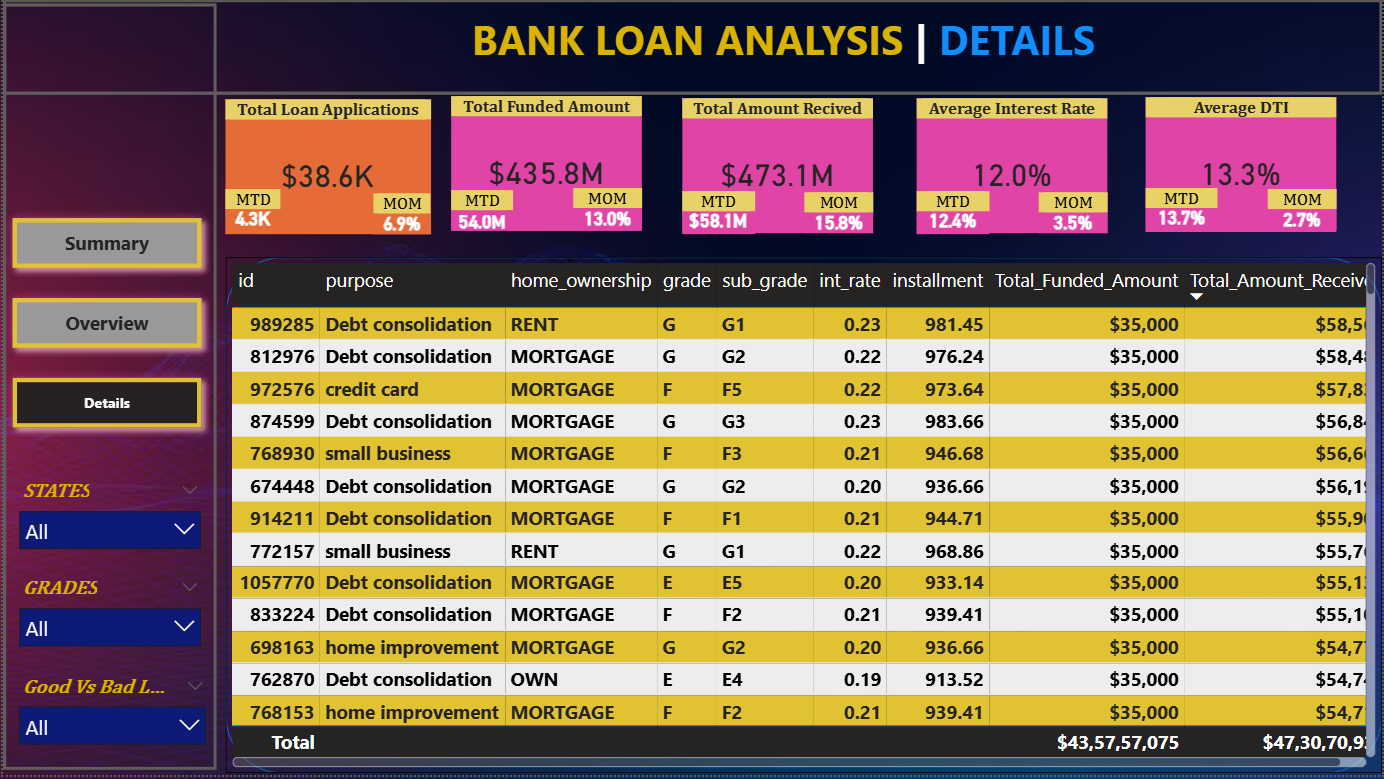

The page's visual inventory and layout, read from the dashboard file:
{"tool":"powerbi","page":{"name":"Details","canvas":[1280,720],"ordinal":2},"visuals":[{"type":"actionButton","box":[0,0,1280,88.9],"z":0},{"type":"actionButton","box":[0,4,198.4,711.4],"z":1000},{"type":"textbox","box":[389,7,671,60],"z":2000},{"type":"card","title":"Total Loan Applications","fields":{"Values":["Good_Loan_%.Total_Loan_Applications"]},"box":[206.4,93.2,190.4,125.2],"z":3000},{"type":"card","title":"MTD","fields":{"Values":["Good_Loan_%.MTD_Loan_App"]},"box":[206.4,176.3,51.1,42.1],"z":4000},{"type":"card","title":"MOM","fields":{"Values":["Good_Loan_%.MOM_Loan_Applications"]},"box":[343.7,180.4,53.1,38.1],"z":5000},{"type":"card","title":"Total Funded Amount","fields":{"Values":["Good_Loan_%.Total_Funded_Amount"]},"box":[416,90,177,125],"z":6000},{"type":"card","title":"MTD","fields":{"Values":["Good_Loan_%.MTD_Funded_Amount"]},"box":[415.8,177.4,57.1,36.1],"z":7000},{"type":"card","title":"MOM","fields":{"Values":["Good_Loan_%.MOM_Total Funded_Amount"]},"box":[529,175,64,38],"z":8000},{"type":"card","title":"Total Amount Recived","fields":{"Values":["Good_Loan_%.Total_Amount_Received"]},"box":[630,92,177,125],"z":9000},{"type":"card","title":"MTD","fields":{"Values":["Good_Loan_%.MTD_Total_Amount_Recieved"]},"box":[630.2,178.4,67.1,40.1],"z":10000},{"type":"card","title":"MOM","fields":{"Values":["Good_Loan_%.MOM_Total_Amount_Recieved"]},"box":[743,179,64,38],"z":11000},{"type":"card","title":"Average Interest Rate","fields":{"Values":["Good_Loan_%.Average_interest_rate"]},"box":[848,92,177,125],"z":12000},{"type":"card","title":"MTD","fields":{"Values":["Good_Loan_%.MTD_Average_int_rate"]},"box":[847.7,178.4,67.1,40.1],"z":13000},{"type":"card","title":"MOM","fields":{"Values":["Good_Loan_%.MOM AVG int rate"]},"box":[961,179,64,38],"z":14000},{"type":"card","title":"Average DTI","fields":{"Values":["Good_Loan_%.Avarage_DTI"]},"box":[1060,91,177,125],"z":15000},{"type":"card","title":"MTD","fields":{"Values":["Good_Loan_%.MTD _AVARAGE_DTI"]},"box":[1060,175,67,40],"z":16000},{"type":"card","title":"MOM","fields":{"Values":["Good_Loan_%.MOM AVG DTI"]},"box":[1173,176,64,38],"z":17000},{"type":"shape","box":[206.4,239.5,1073.1,478.9],"z":18000},{"type":"slicer","fields":{"Values":["financial_loan.address_state"]},"box":[5,441.9,188.4,75.1],"z":19000},{"type":"slicer","fields":{"Values":["financial_loan.grade"]},"box":[5,532.1,188.4,75.1],"z":20000},{"type":"slicer","fields":{"Values":["financial_loan.Good Vs Bad Loan"]},"box":[5,623.2,193.4,79.2],"z":21000},{"type":"tableEx","fields":{"Values":["financial_loan.id","financial_loan.purpose","financial_loan.home_ownership","financial_loan.grade","financial_loan.sub_grade","financial_loan.int_rate","financial_loan.installment","Good_Loan_%.Total_Funded_Amount","Good_Loan_%.Total_Amount_Received"]},"box":[206.4,239.5,1073.1,478.9],"z":22000},{"type":"pageNavigator","box":[0,194.4,193.4,212.4],"z":23000},{"type":"image","box":[0,7,193.4,136.3],"z":24000}]}

Visuals, with their boxes in screenshot pixels (x1, y1, x2, y2), scaled from the page's 1280x720 canvas onto the 1384x779 screenshot:
actionButton: BBox(0, 0, 1383, 96)
actionButton: BBox(0, 4, 215, 774)
textbox: BBox(421, 8, 1146, 72)
"Total Loan Applications" card: BBox(223, 101, 429, 236)
"MTD" card: BBox(223, 191, 278, 236)
"MOM" card: BBox(372, 195, 429, 236)
"Total Funded Amount" card: BBox(450, 97, 641, 233)
"MTD" card: BBox(450, 192, 511, 231)
"MOM" card: BBox(572, 189, 641, 230)
"Total Amount Recived" card: BBox(681, 100, 873, 235)
"MTD" card: BBox(681, 193, 754, 236)
"MOM" card: BBox(803, 194, 873, 235)
"Average Interest Rate" card: BBox(917, 100, 1108, 235)
"MTD" card: BBox(917, 193, 989, 236)
"MOM" card: BBox(1039, 194, 1108, 235)
"Average DTI" card: BBox(1146, 98, 1338, 234)
"MTD" card: BBox(1146, 189, 1219, 233)
"MOM" card: BBox(1268, 190, 1338, 232)
shape: BBox(223, 259, 1383, 777)
slicer - financial_loan.address_state: BBox(5, 478, 209, 559)
slicer - financial_loan.grade: BBox(5, 576, 209, 657)
slicer - financial_loan.Good Vs Bad Loan: BBox(5, 674, 215, 760)
tableEx - financial_loan.id x financial_loan.purpose: BBox(223, 259, 1383, 777)
pageNavigator: BBox(0, 210, 209, 440)
image: BBox(0, 8, 209, 155)
